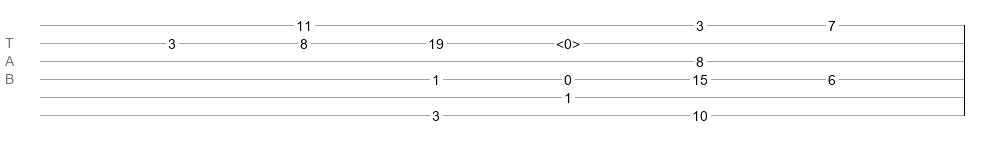0: (564, 72, 572, 82)
1: (432, 72, 440, 82), (564, 90, 572, 100)
10: (692, 108, 708, 118)
11: (296, 18, 312, 28)
15: (692, 72, 708, 82)
19: (428, 36, 444, 46)
3: (168, 36, 176, 46), (432, 108, 440, 118), (696, 18, 704, 28)
6: (828, 72, 836, 82)
7: (828, 18, 836, 28)
8: (300, 36, 308, 46), (696, 54, 704, 64)
harmonic: (556, 36, 580, 46)
